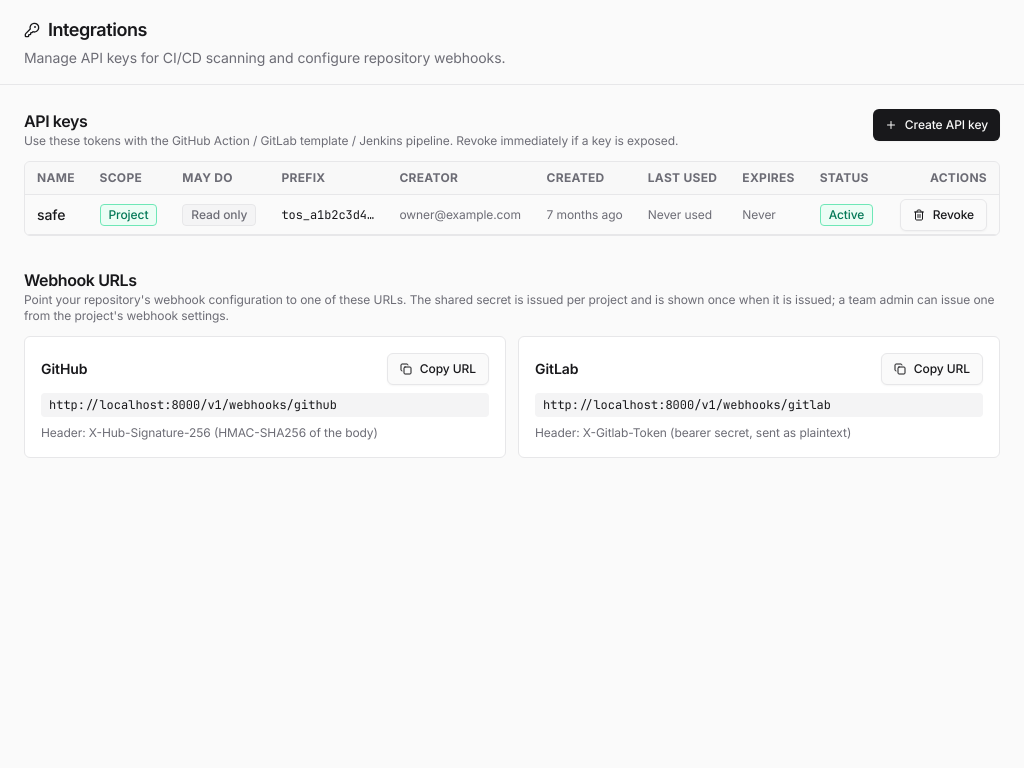
Test: IntegrationsPage › dismisses the revoke dialog when Cancel is clicked
Check: the row with test id "integrations-key-row" is shown, box [25,194,999,234]
Click the button with test id "integrations-key-revoke". click: (943, 214)
box: [900,198,987,230]
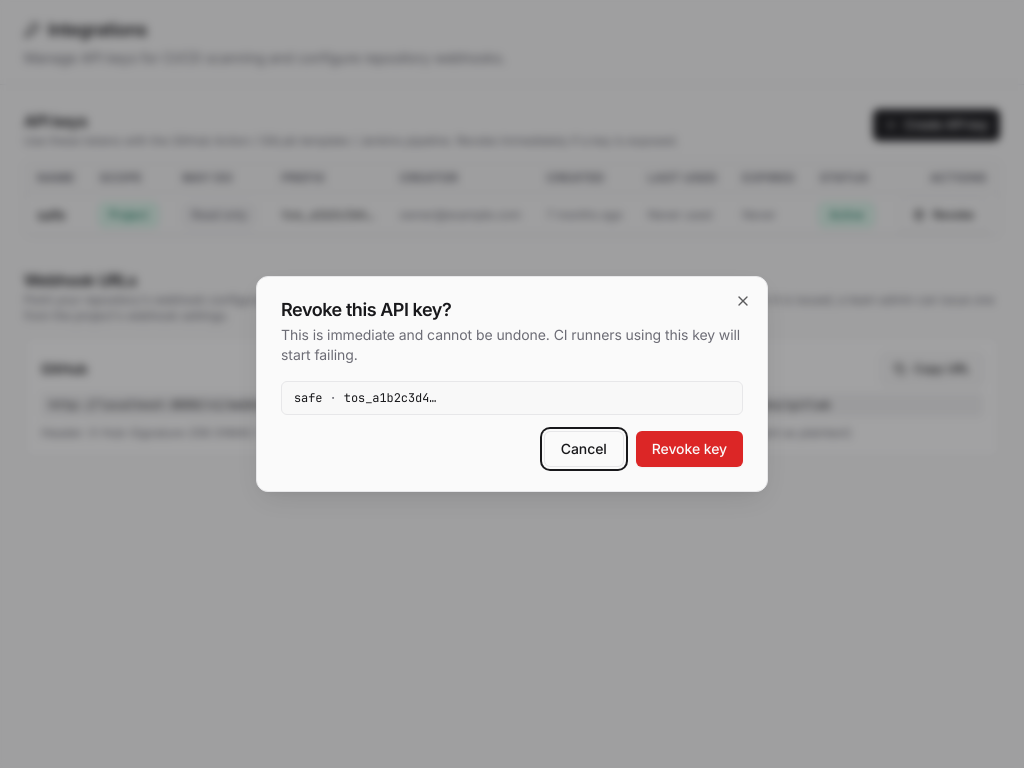
Check: the dialog with test id "integrations-revoke-dialog" is shown, box [256,276,768,492]
Click the button with test id "integrations-revoke-cancel". click: (584, 449)
box: [544,431,624,467]
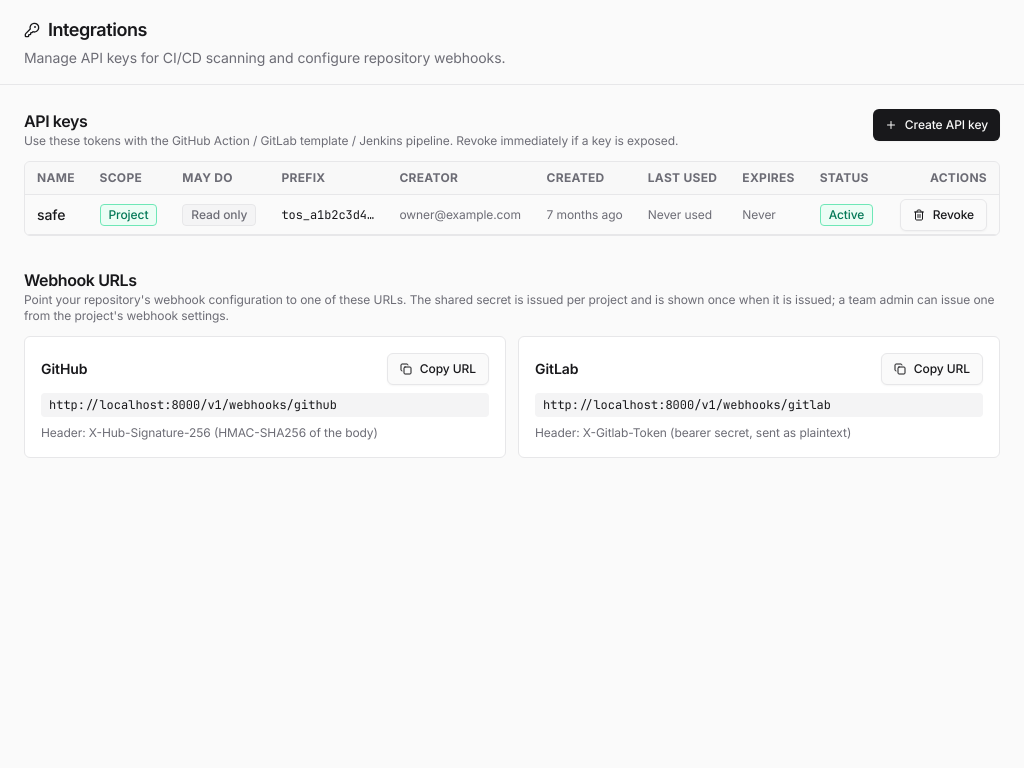
Check: the dialog with test id "integrations-revoke-dialog" is gone
